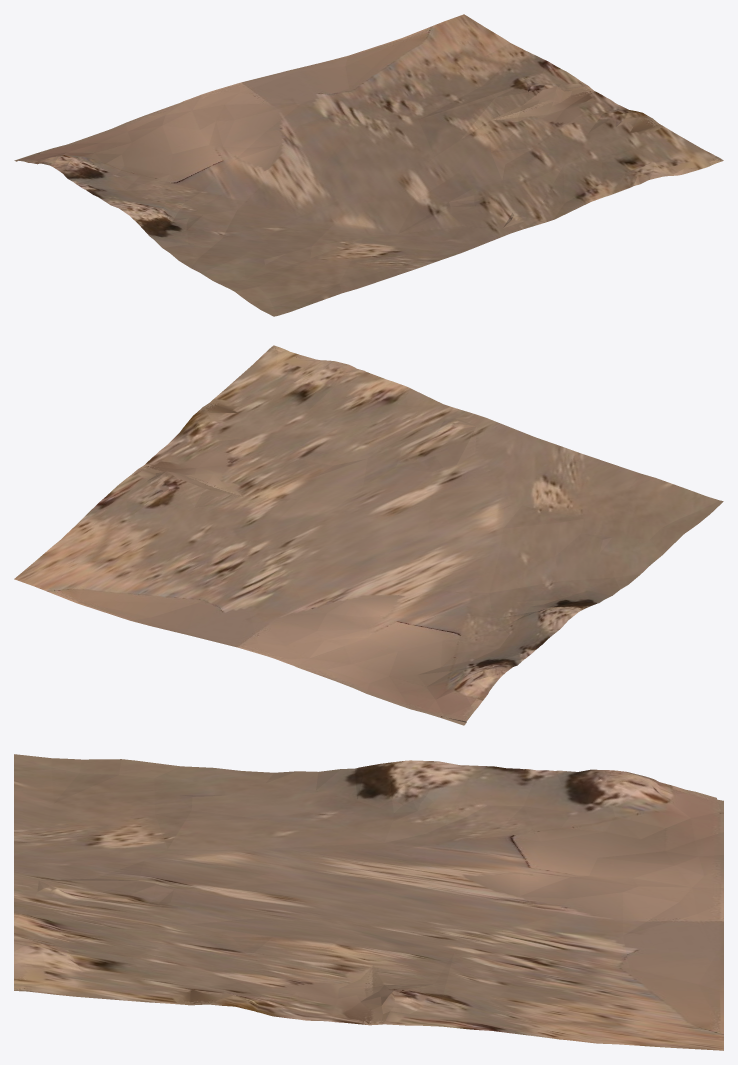
3 views of the same model, one above another, from view 1: azimuth 30°, elevation 25°; view 2: azimuth 150°, elevation 25°; view 3: azimuth 270°, elevation 25° (orthographic). The views are drawn at different scales.
Size of the model in its own units: 2.09 by 0.3564 by 2.09.
Materials: 2 (2 with a texture image).
